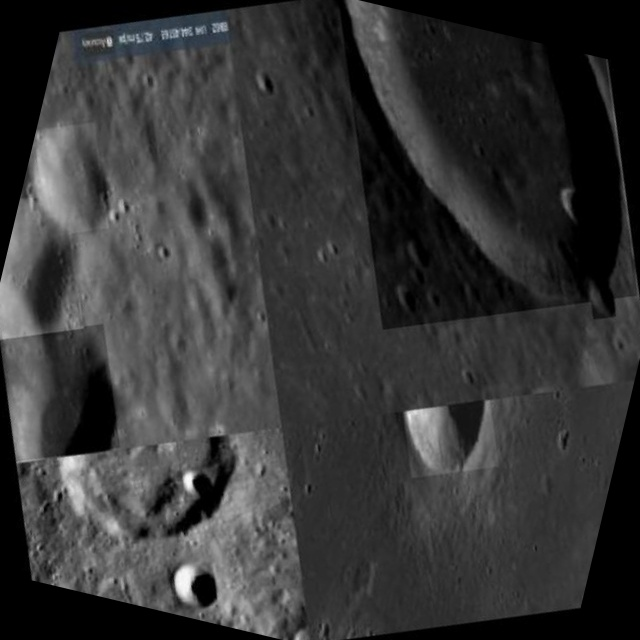crater: (262, 0, 623, 315), (90, 452, 292, 606), (12, 374, 154, 528), (0, 255, 92, 413), (0, 179, 93, 305), (422, 358, 528, 452), (230, 581, 286, 637), (570, 208, 608, 256), (226, 491, 260, 528), (199, 88, 225, 118)
